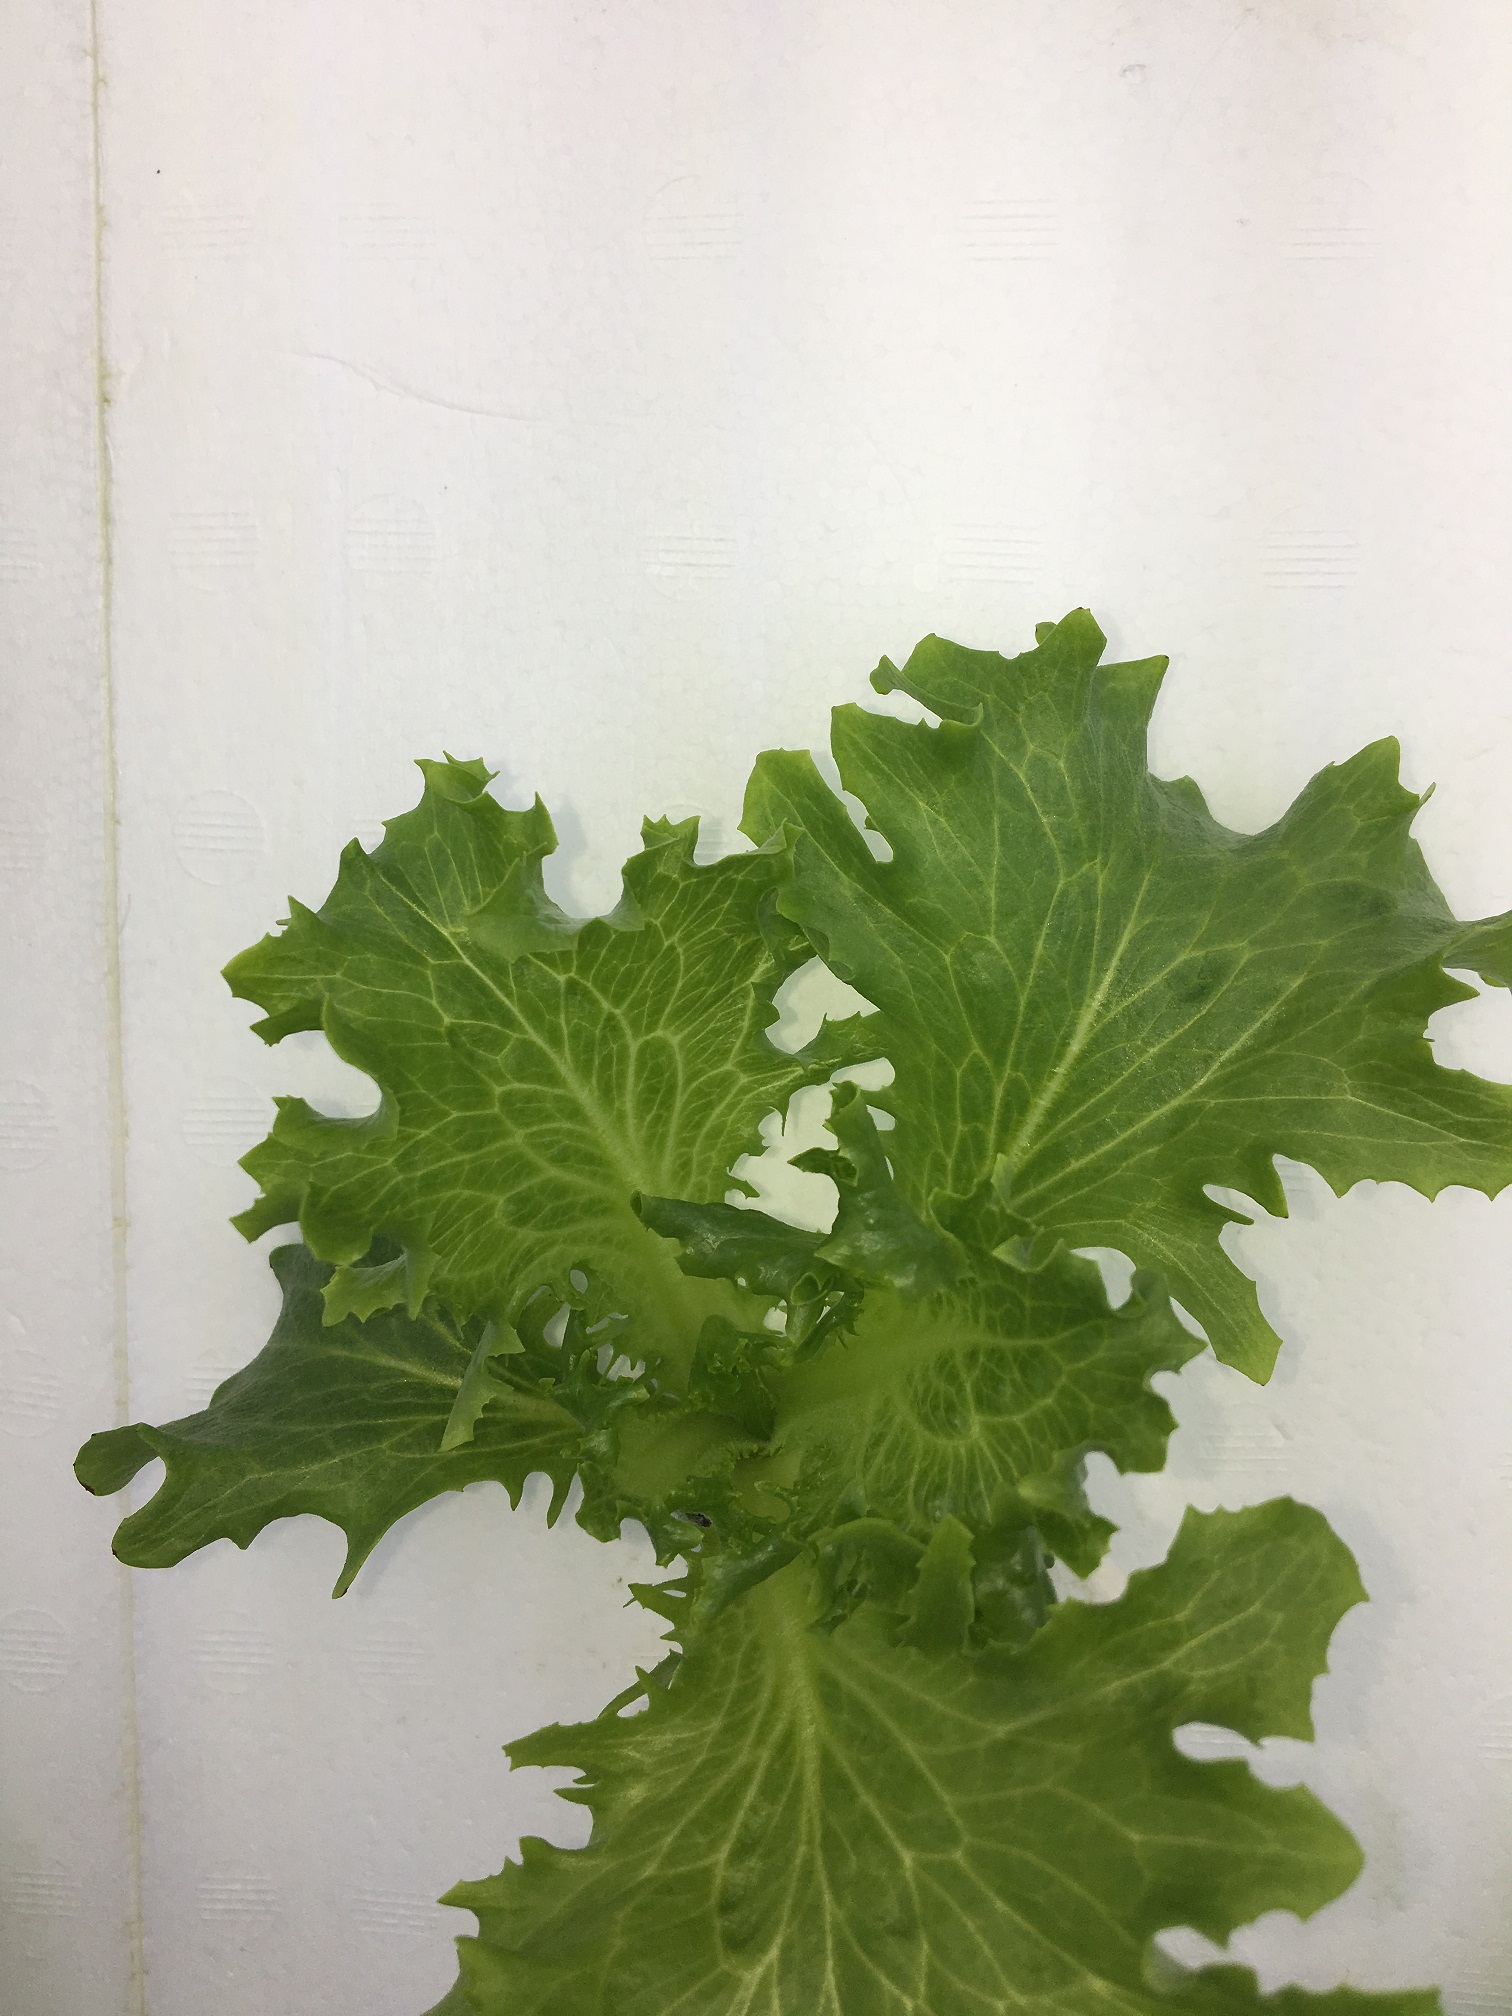tipburn: (1066, 592, 1107, 625), (1155, 633, 1191, 668)
